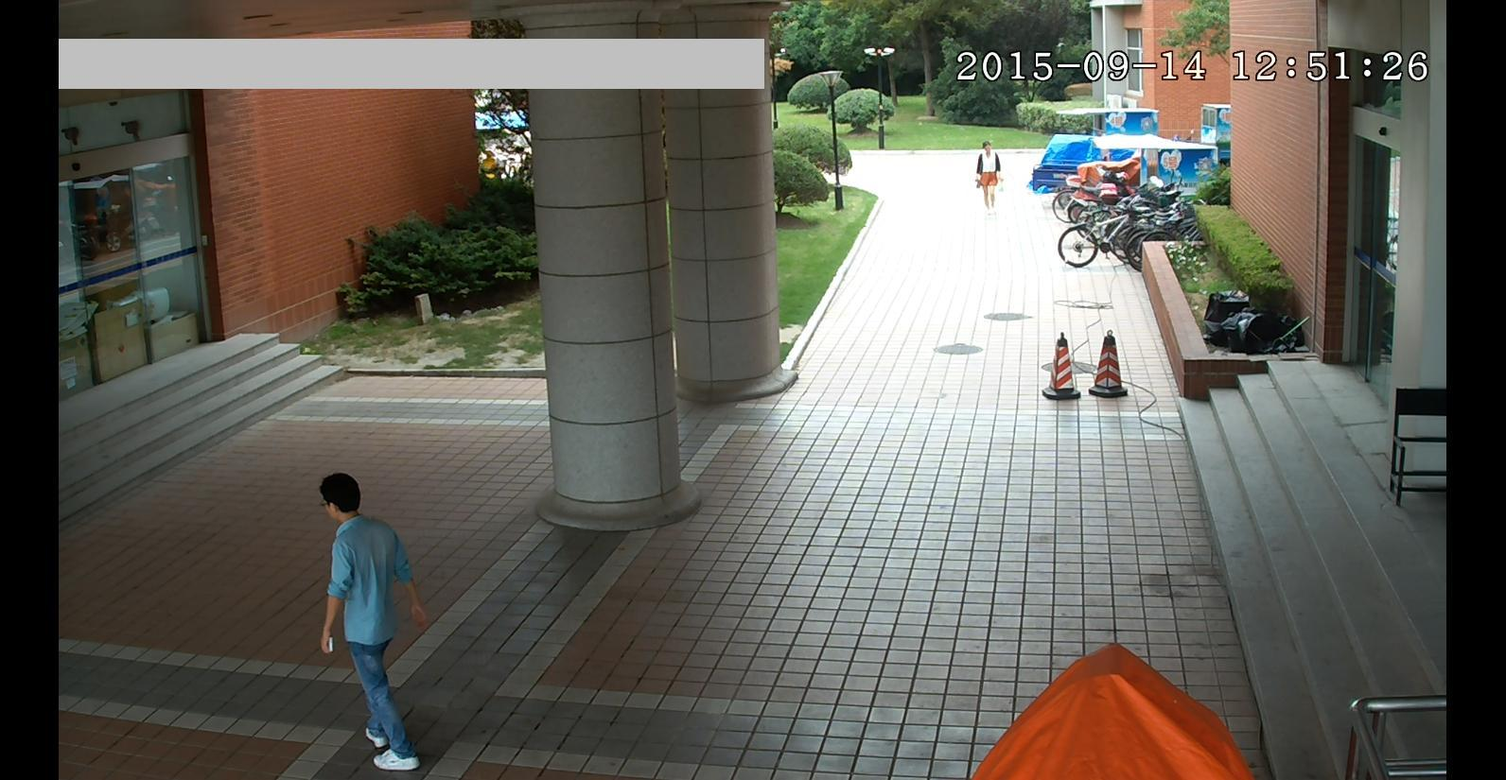person: (292, 464, 438, 773), (969, 135, 1007, 208)
